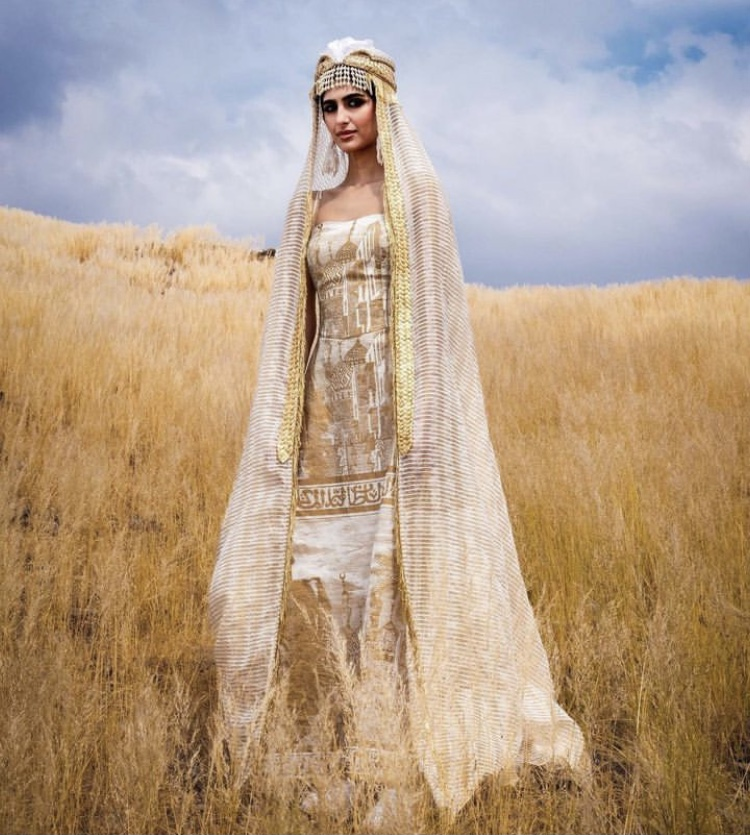Saudi_Founding_Day: (200, 36, 595, 835)
